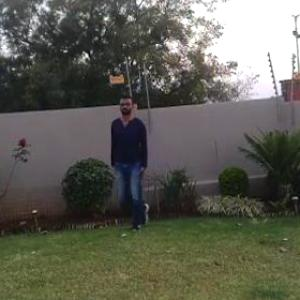follow: (110, 96, 156, 234)
